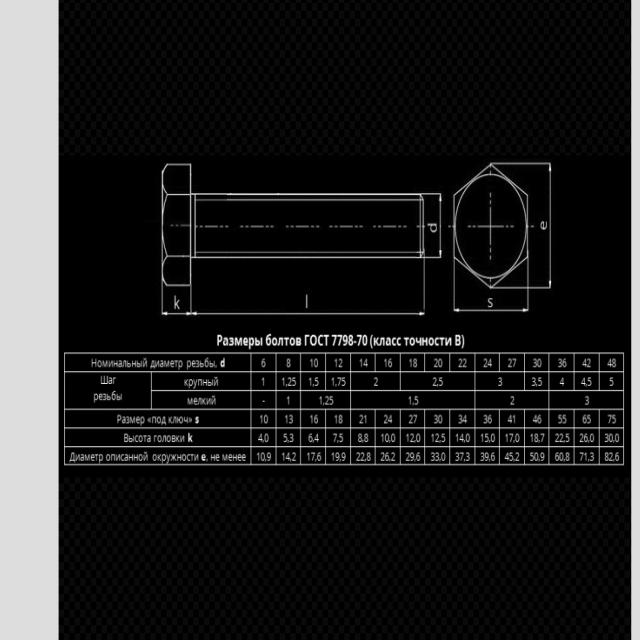marking_line: (193, 309, 424, 319), (548, 165, 553, 288), (455, 308, 527, 314), (439, 196, 444, 257), (160, 310, 190, 317)
numeric: (281, 375, 299, 388), (601, 449, 619, 462), (603, 431, 621, 444), (379, 431, 398, 443), (553, 431, 572, 443), (307, 450, 323, 464), (330, 374, 347, 387), (480, 430, 497, 443), (505, 433, 523, 445), (478, 450, 496, 462), (457, 411, 471, 426), (531, 430, 545, 445), (380, 450, 396, 463), (430, 450, 446, 463), (530, 451, 547, 463), (579, 432, 596, 444), (554, 451, 571, 463), (455, 449, 470, 462), (504, 449, 520, 461), (330, 451, 347, 462), (405, 432, 422, 443), (356, 450, 373, 461), (281, 450, 295, 463), (257, 451, 272, 463), (319, 396, 337, 406), (308, 431, 321, 444), (531, 376, 544, 389), (333, 431, 345, 445), (482, 356, 494, 370), (605, 356, 619, 368), (406, 394, 421, 405), (430, 377, 445, 388), (405, 452, 421, 462), (431, 434, 447, 444), (456, 434, 472, 444), (258, 430, 270, 443), (529, 358, 543, 369), (333, 357, 345, 369), (509, 392, 518, 408), (556, 413, 568, 425), (581, 374, 593, 386), (605, 412, 617, 424), (309, 412, 320, 425), (406, 413, 419, 424), (357, 431, 370, 442), (580, 356, 593, 367), (581, 451, 595, 461), (308, 375, 320, 386), (309, 357, 321, 368), (358, 358, 370, 369), (409, 358, 421, 369), (282, 432, 295, 442), (382, 414, 395, 424), (482, 415, 495, 425), (582, 393, 592, 406), (285, 414, 296, 425), (433, 357, 444, 368), (457, 358, 468, 369), (582, 414, 593, 425), (371, 375, 380, 388), (359, 412, 368, 425), (532, 414, 545, 423), (558, 359, 571, 368), (333, 414, 344, 424), (384, 358, 394, 369), (507, 359, 517, 370), (260, 414, 269, 425), (507, 413, 518, 422), (285, 356, 293, 368), (560, 375, 568, 387), (607, 375, 614, 388), (434, 415, 444, 424), (259, 375, 266, 387), (286, 394, 293, 406), (257, 359, 266, 368), (497, 377, 503, 388)
